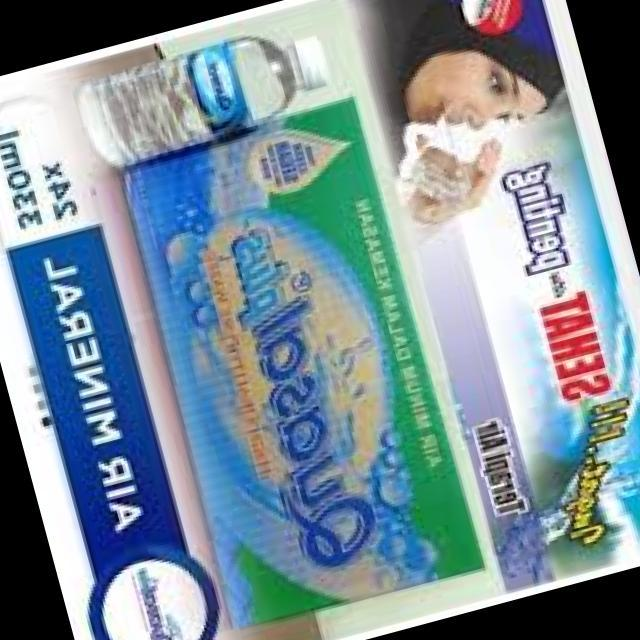good: (65, 8, 343, 168)
